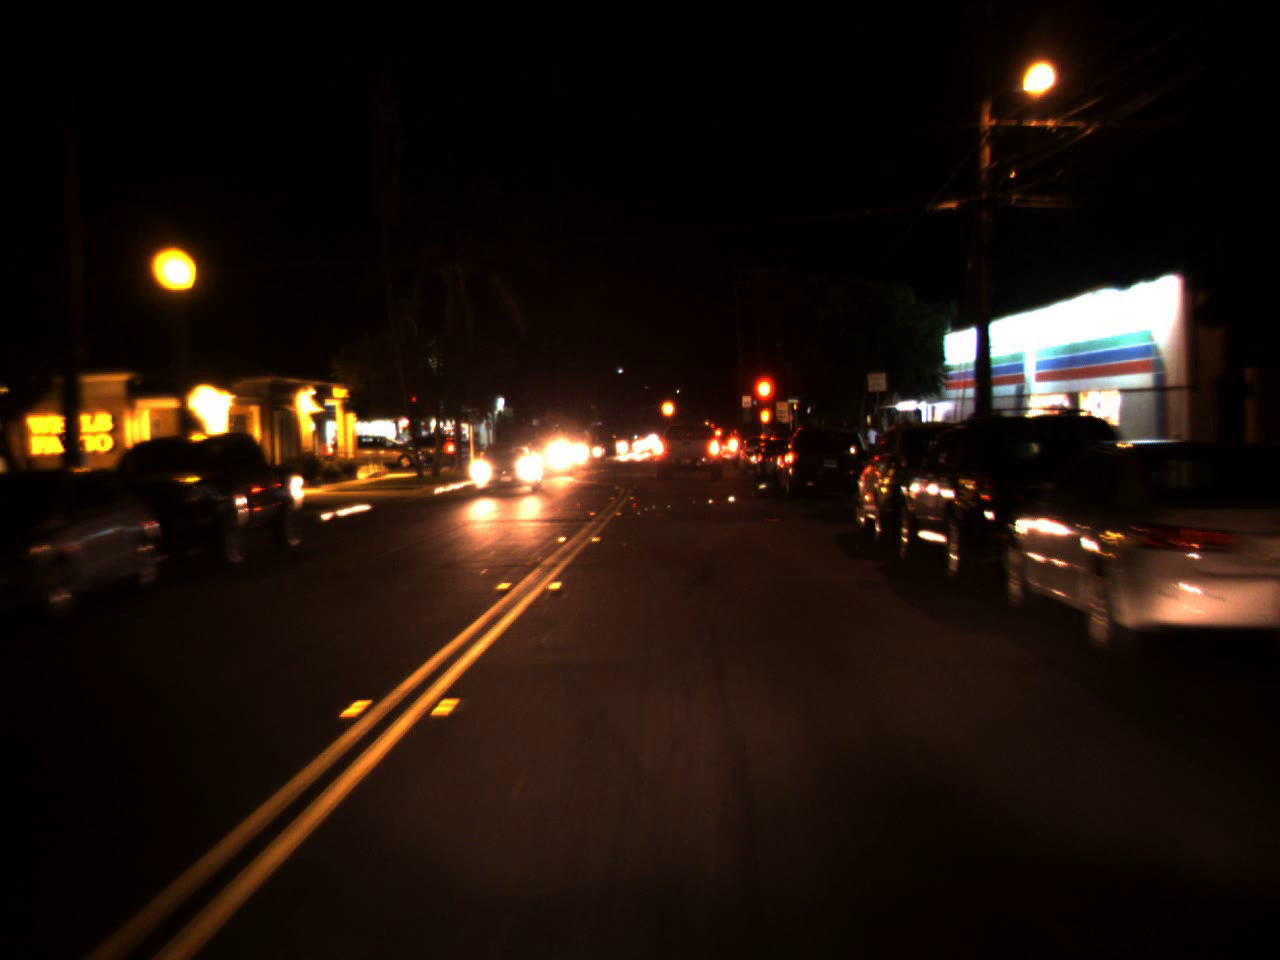stop: (749, 372, 779, 431)
warning: (657, 390, 678, 425)
